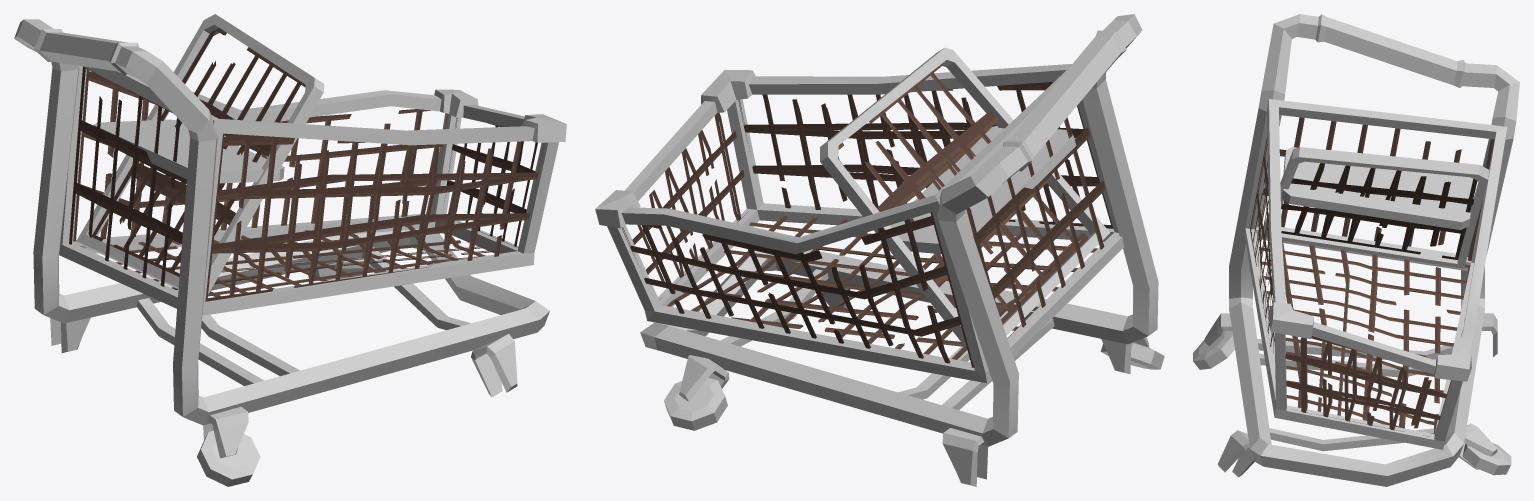
File: SM_Prop_ShoppingCart_Broken_01.fbx
3 views of the same model, side by side, from view 1: azimuth 30°, elevation 25°; view 2: azimuth 150°, elevation 25°; view 3: azimuth 270°, elevation 25° (orthographic). The views are drawn at different scales.
Visible parts, largest first — view 1: SM_Prop_ShoppingCart_Broken_01; view 2: SM_Prop_ShoppingCart_Broken_01; view 3: SM_Prop_ShoppingCart_Broken_01.
Boxes of the visible parts, x1,y1,x2,y2 form: SM_Prop_ShoppingCart_Broken_01: (14, 14, 566, 486); SM_Prop_ShoppingCart_Broken_01: (595, 14, 1164, 486); SM_Prop_ShoppingCart_Broken_01: (1193, 14, 1519, 486).
Size of the model in its own units: 132 by 114 by 102.
